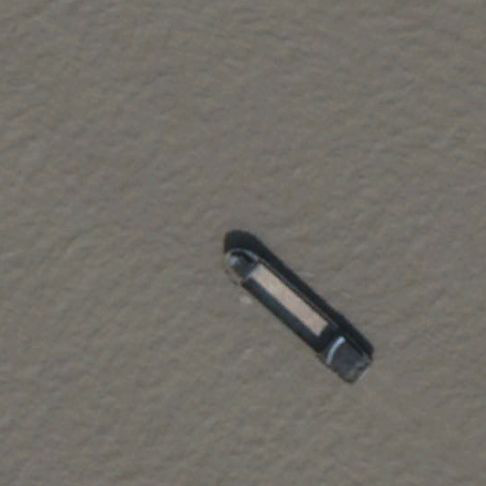boat: (218, 239, 376, 388)
